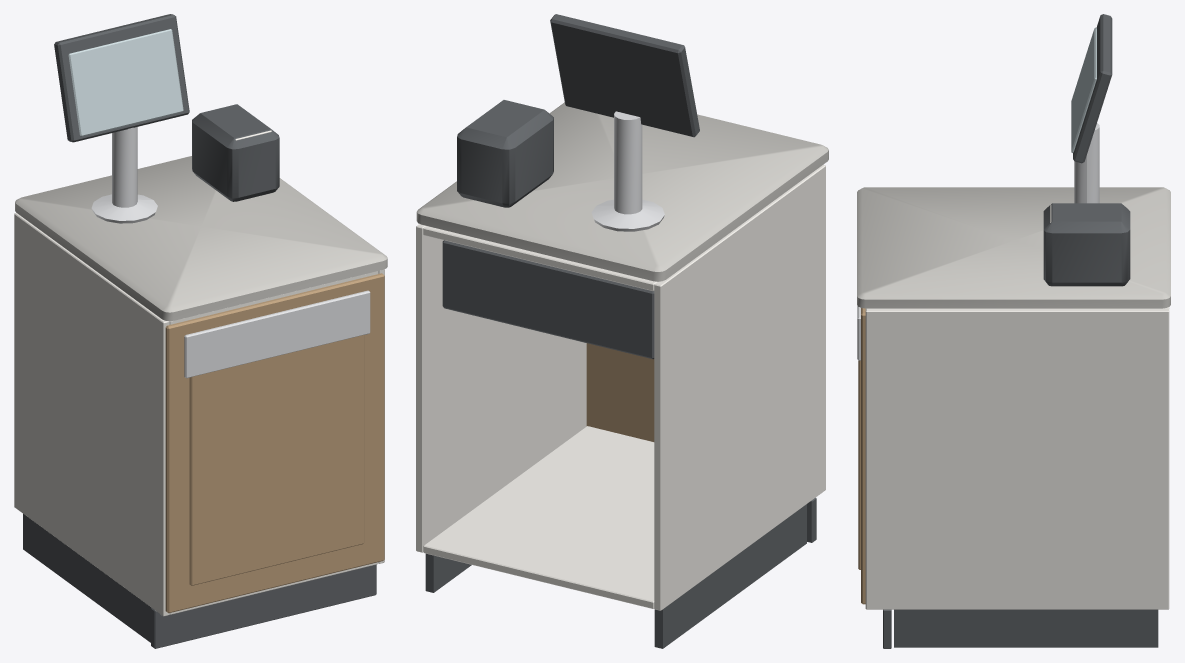
The model's file is bakery-and-cafe-till-position-pos-c1a7e19c__22127.glb.
3 views of the same model, side by side, from view 1: azimuth 30°, elevation 25°; view 2: azimuth 150°, elevation 25°; view 3: azimuth 270°, elevation 25° (orthographic). The views are drawn at different scales.
Parts seen in each view (by area): view 1: till-position-pos, till-drawer; view 2: till-position-pos; view 3: till-position-pos.
Part boxes in pixels (box(x1,y1,x2,y2)): till-position-pos: box(14, 14, 387, 648); till-drawer: box(184, 290, 370, 378); till-position-pos: box(416, 14, 828, 648); till-position-pos: box(857, 14, 1170, 648).
Size of the model in its own units: 0.606 by 1.35 by 0.724.
